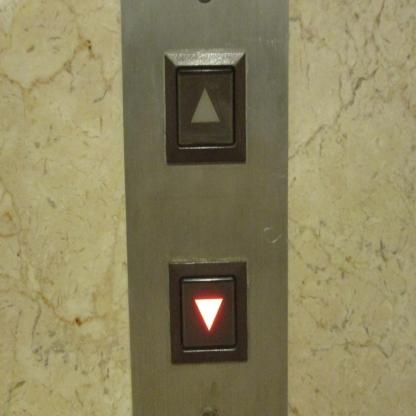down: (166, 258, 250, 366)
up: (161, 48, 248, 166)
